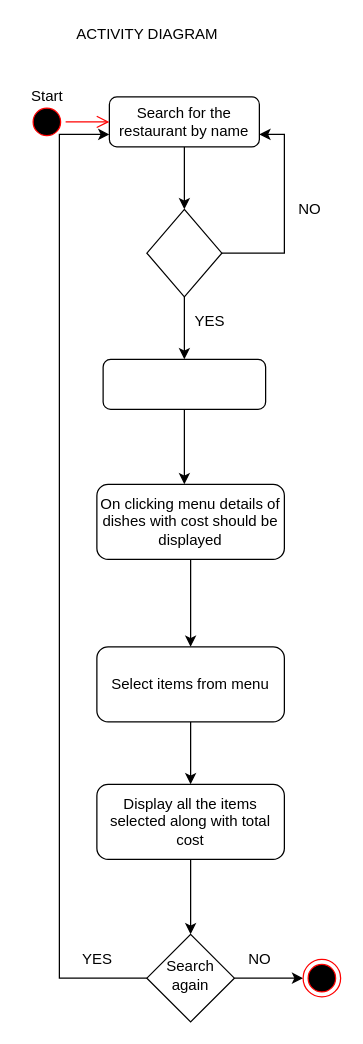
Image size: 363x1044. Some labels were removed from this diagram. The box of each missing label's shape, as (x1, y1, x2, y2) in pixels:
Display restaurant name / location / menu: (102, 358, 266, 409)
If found: (146, 208, 222, 297)
